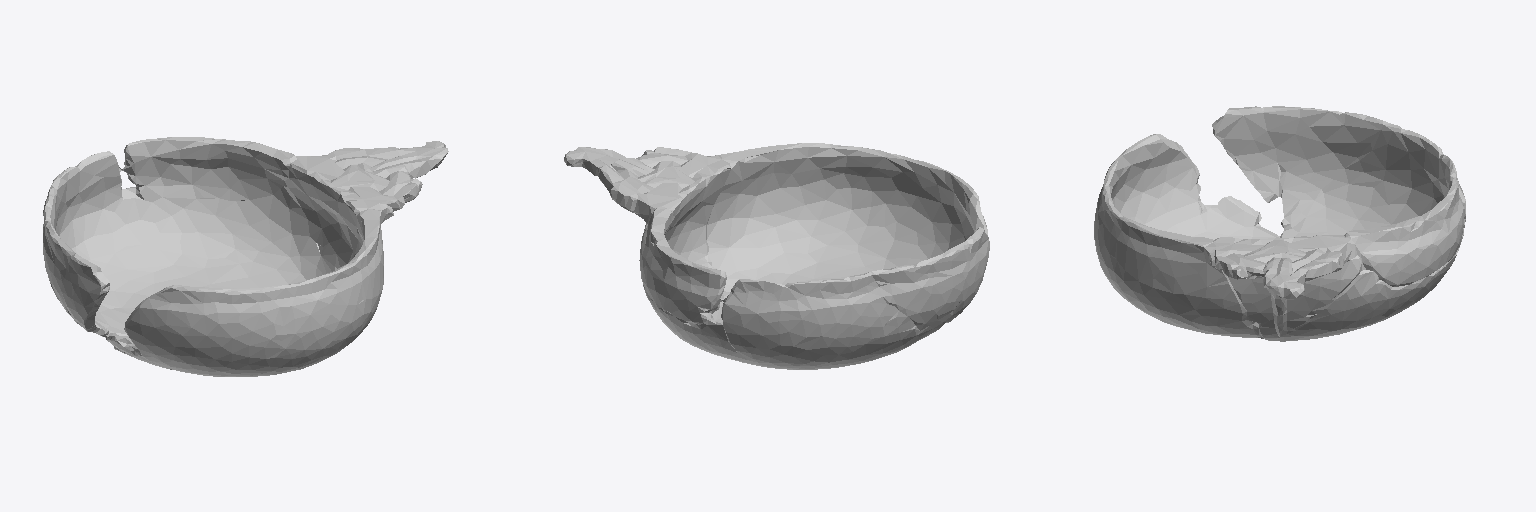
The model's file is WoodBowl-lowres.obj.
The picture shows the model from 3 angles: view 1: azimuth 30°, elevation 25°; view 2: azimuth 150°, elevation 25°; view 3: azimuth 270°, elevation 25°; orthographic projection.
Visible parts, largest first — view 1: Model.001; view 2: Model.001; view 3: Model.001.
Boxes of the visible parts, box(x1,y1,x2,y2) form: Model.001: box(43, 137, 448, 376); Model.001: box(564, 143, 989, 369); Model.001: box(1094, 106, 1465, 341).
Bounding box in the file's own units: 3.83 × 1.16 × 3.15.